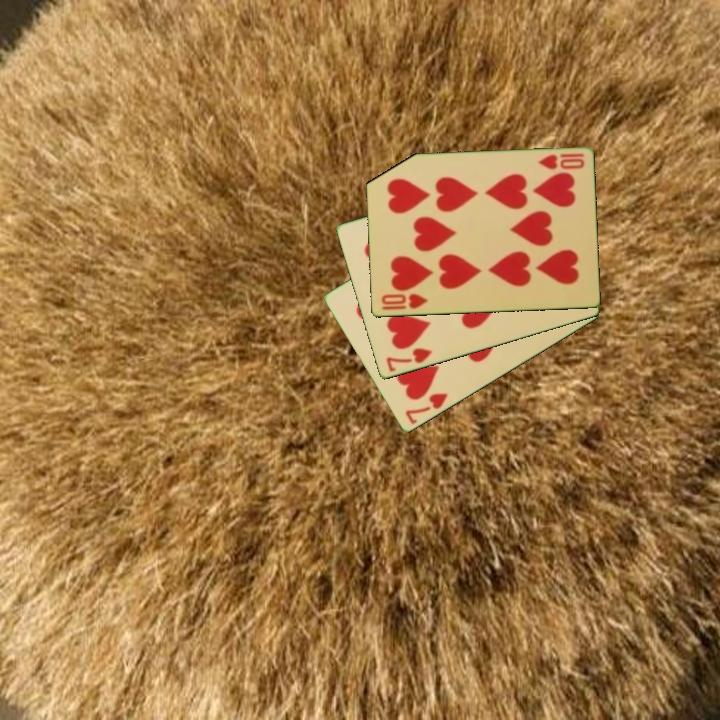10h: (378, 290, 430, 313), (535, 150, 587, 173)
7h: (401, 390, 451, 427), (382, 345, 435, 375)
